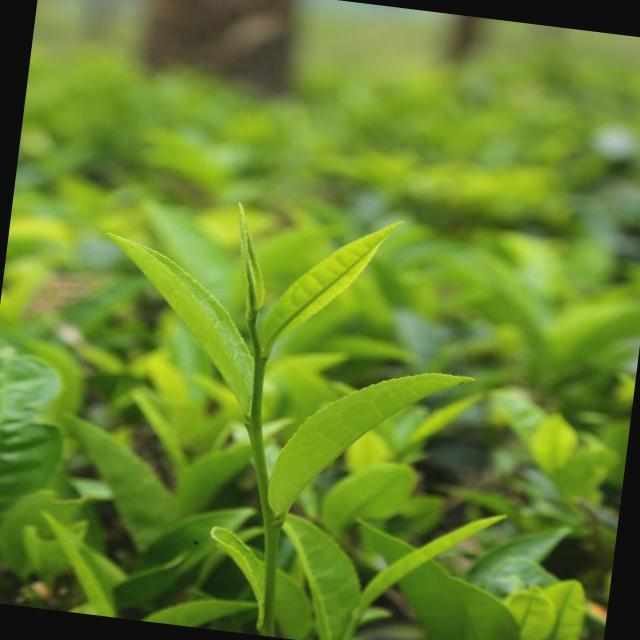Stem: (256, 359, 265, 373)
